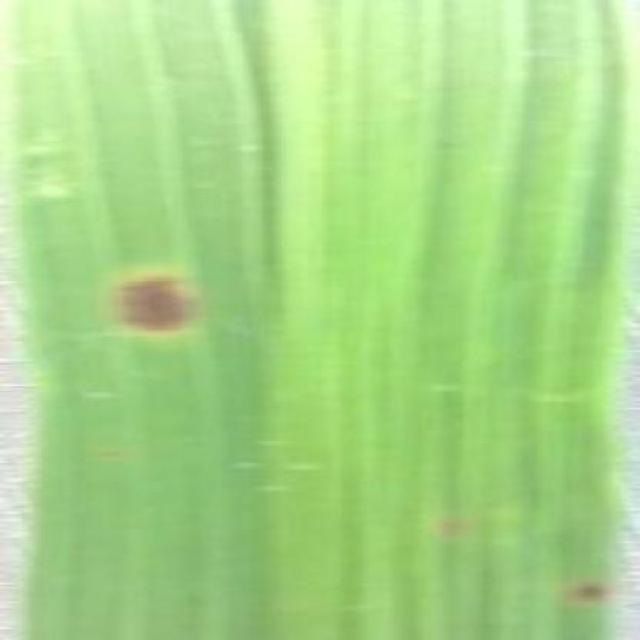Leaf_Blast: (82, 244, 225, 361), (560, 566, 618, 616), (428, 506, 483, 543), (89, 438, 133, 464)
